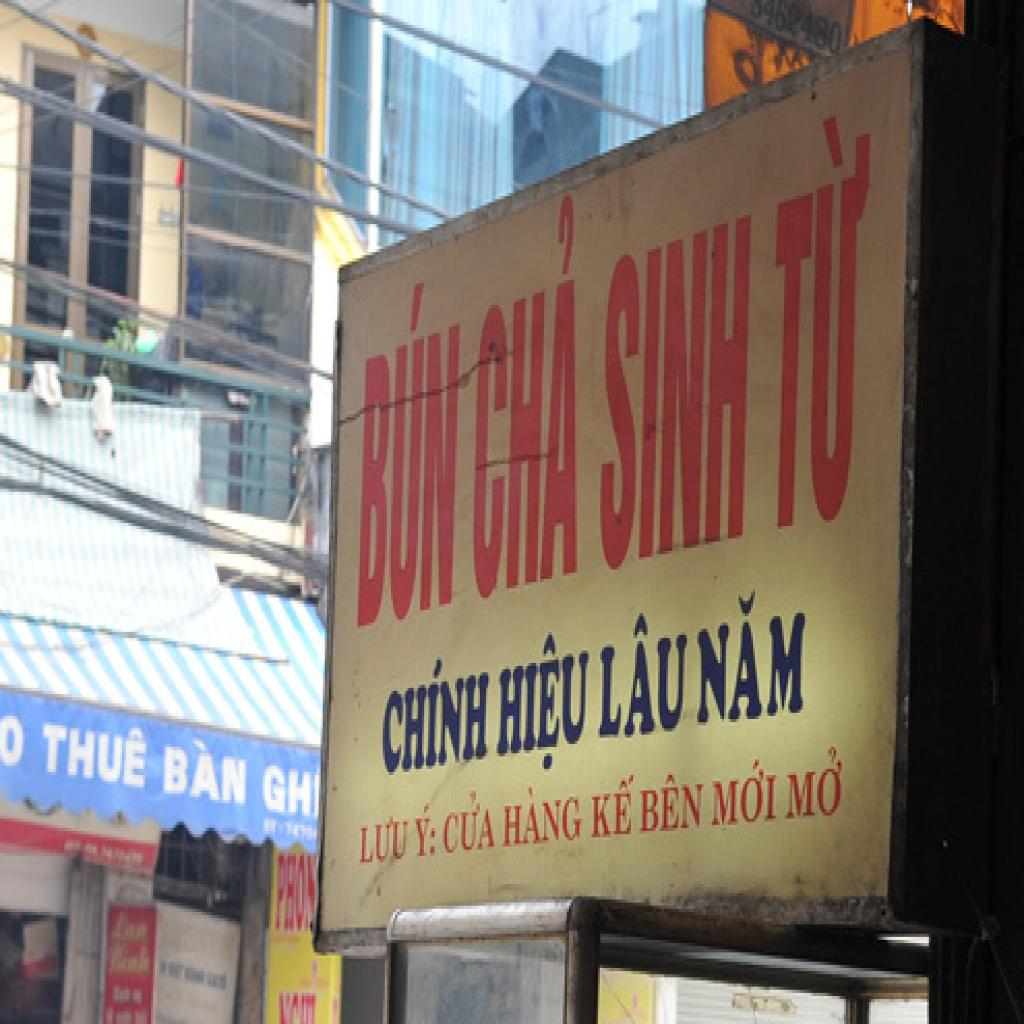text: (594, 212, 757, 576), (768, 84, 890, 535), (470, 187, 579, 610), (354, 268, 463, 638), (695, 576, 817, 728), (378, 638, 494, 778), (496, 629, 592, 787), (594, 601, 691, 747), (39, 712, 151, 790), (164, 728, 248, 812), (786, 734, 848, 828), (503, 778, 583, 850), (710, 753, 782, 831), (639, 772, 708, 840), (442, 784, 500, 859), (271, 853, 319, 940), (590, 766, 637, 844), (262, 760, 316, 822), (358, 810, 412, 868), (2, 710, 33, 775), (414, 803, 438, 862)
